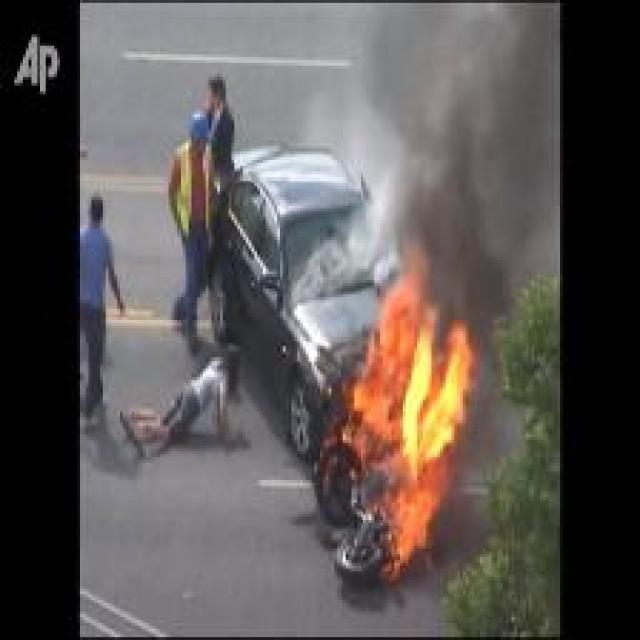Fire: (338, 237, 476, 577)
